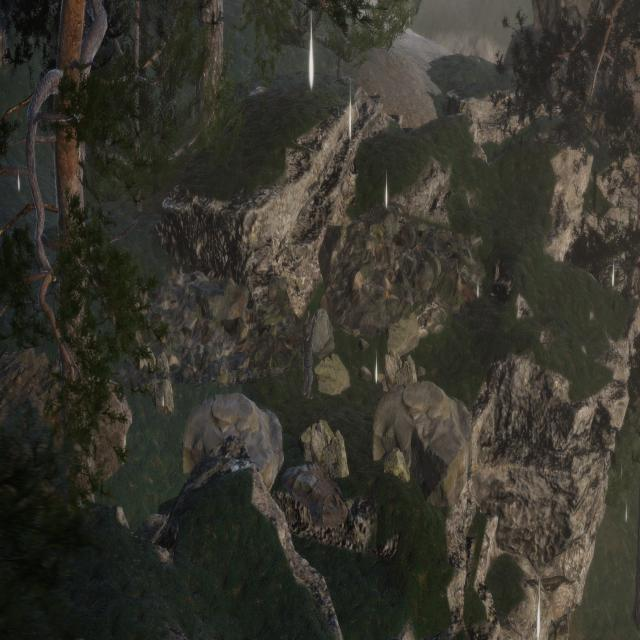Human: (295, 300, 319, 409)
